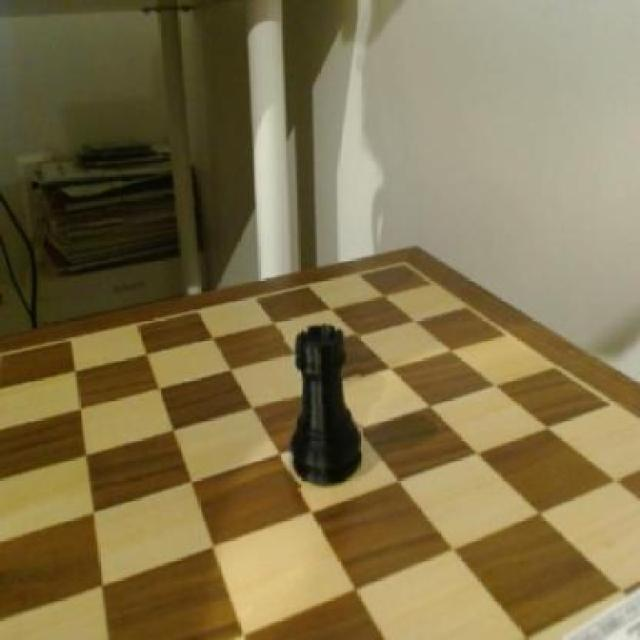black-queen: (285, 322, 363, 488)
